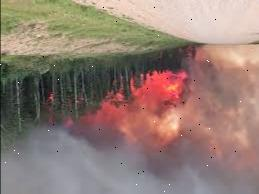fire: (108, 61, 198, 139)
